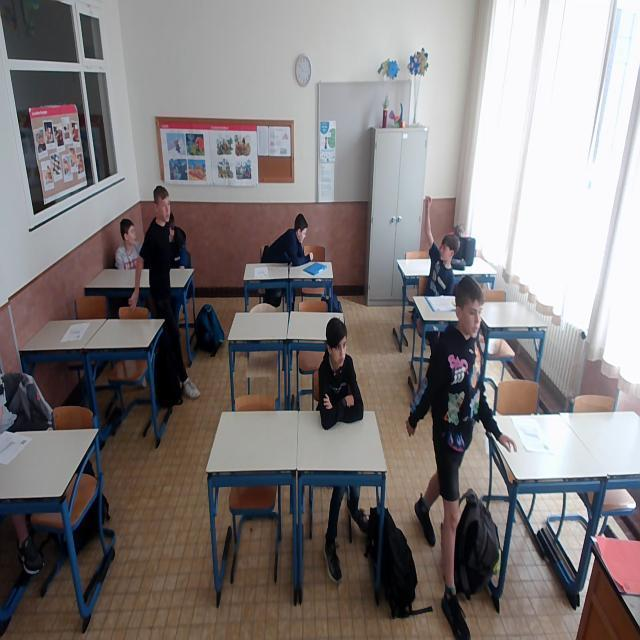Looking away: (293, 214, 309, 245), (120, 221, 138, 247)
Looking forward: (329, 339, 347, 366)
Raising hand: (418, 190, 456, 298)
